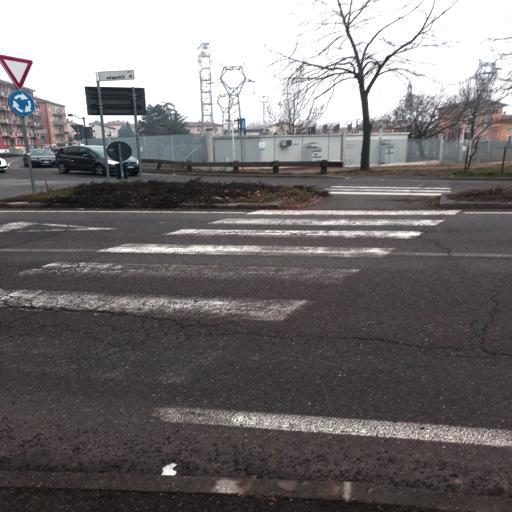crosswalk: (13, 236, 401, 290), (210, 206, 474, 228)
